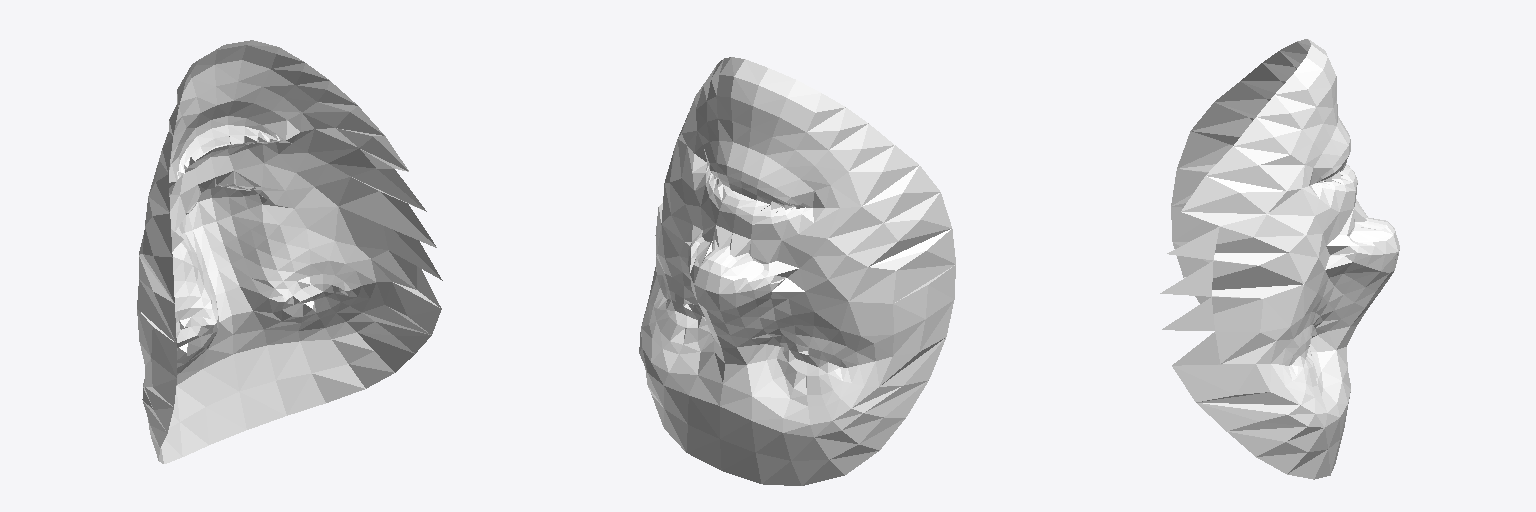
File: IMG_1100.obj
3 views of the same model, side by side, from view 1: azimuth 30°, elevation 25°; view 2: azimuth 150°, elevation 25°; view 3: azimuth 270°, elevation 25° (orthographic).
Size of the model in its own units: 1.36 by 1.98 by 1.06.